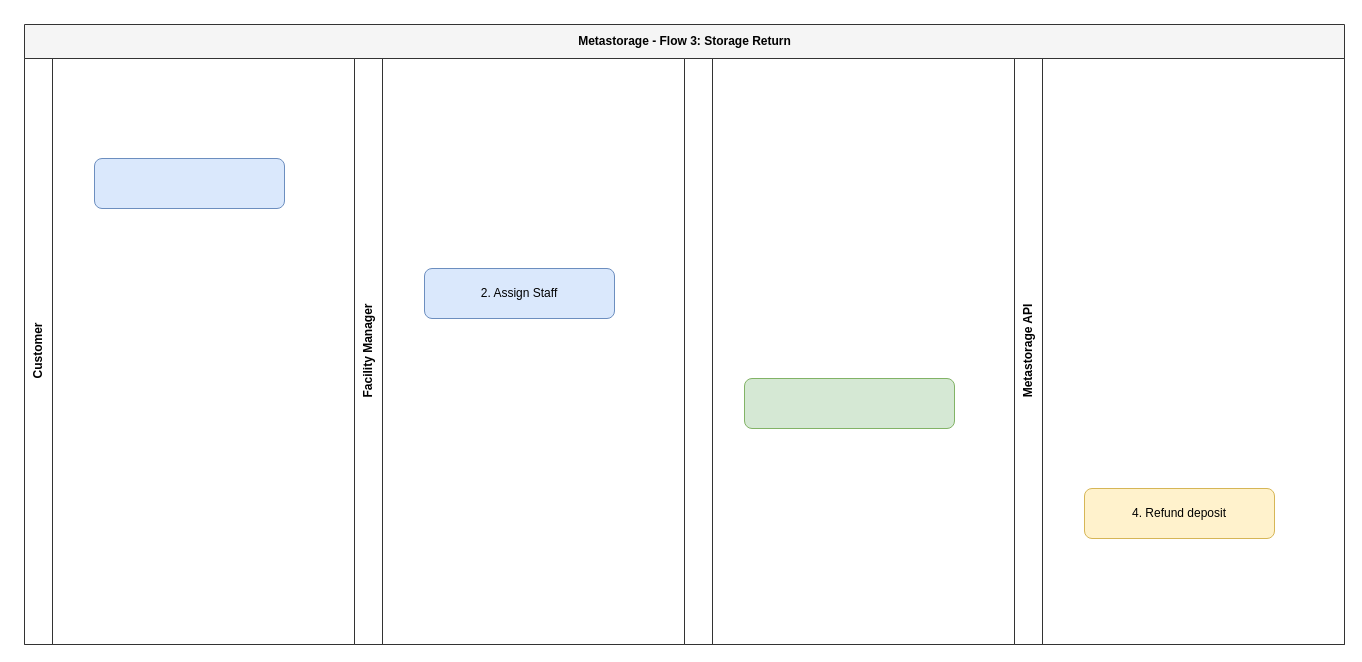
The diagram is 1362 pixels wide and 662 high, and some of its shapes have lost their labels. Here are the shapes that lost their labels. From the top down, the box of each, then its label:
(94, 158, 284, 208): 1. Book return slot
(684, 58, 1014, 644): Staff
(744, 378, 954, 428): 3. Inspect unit condition
